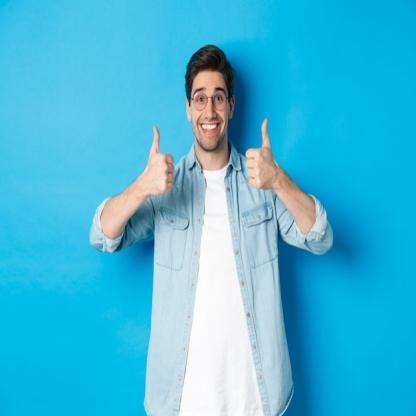thumb_up: (244, 113, 276, 192), (144, 124, 176, 198)
